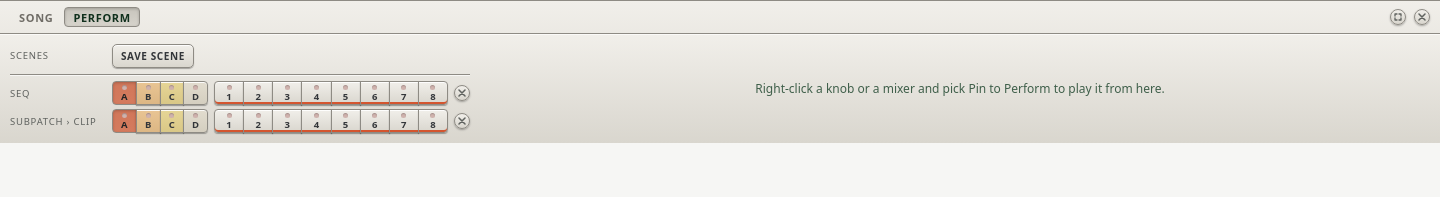
PerformPanel scenes › saves the pattern each node plays now as a scene, the first one while the engine does not say
The image size is (1440, 197).
Click the button "Save scene": [153, 56] box [112,44,194,68]
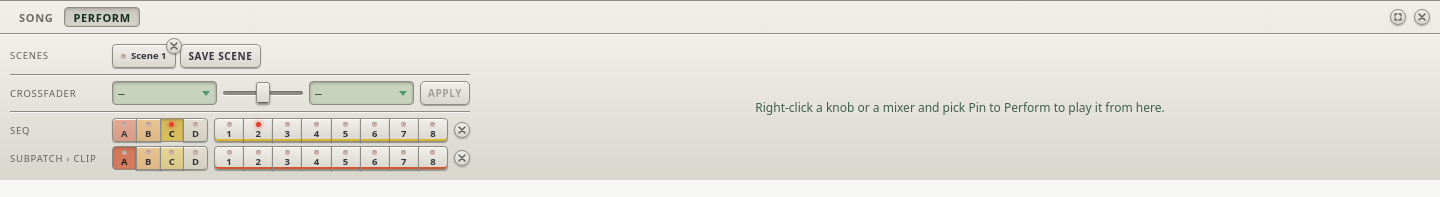
Expected: the button with aria-label "Launch Scene 1" is shown, [112,44,176,68]
